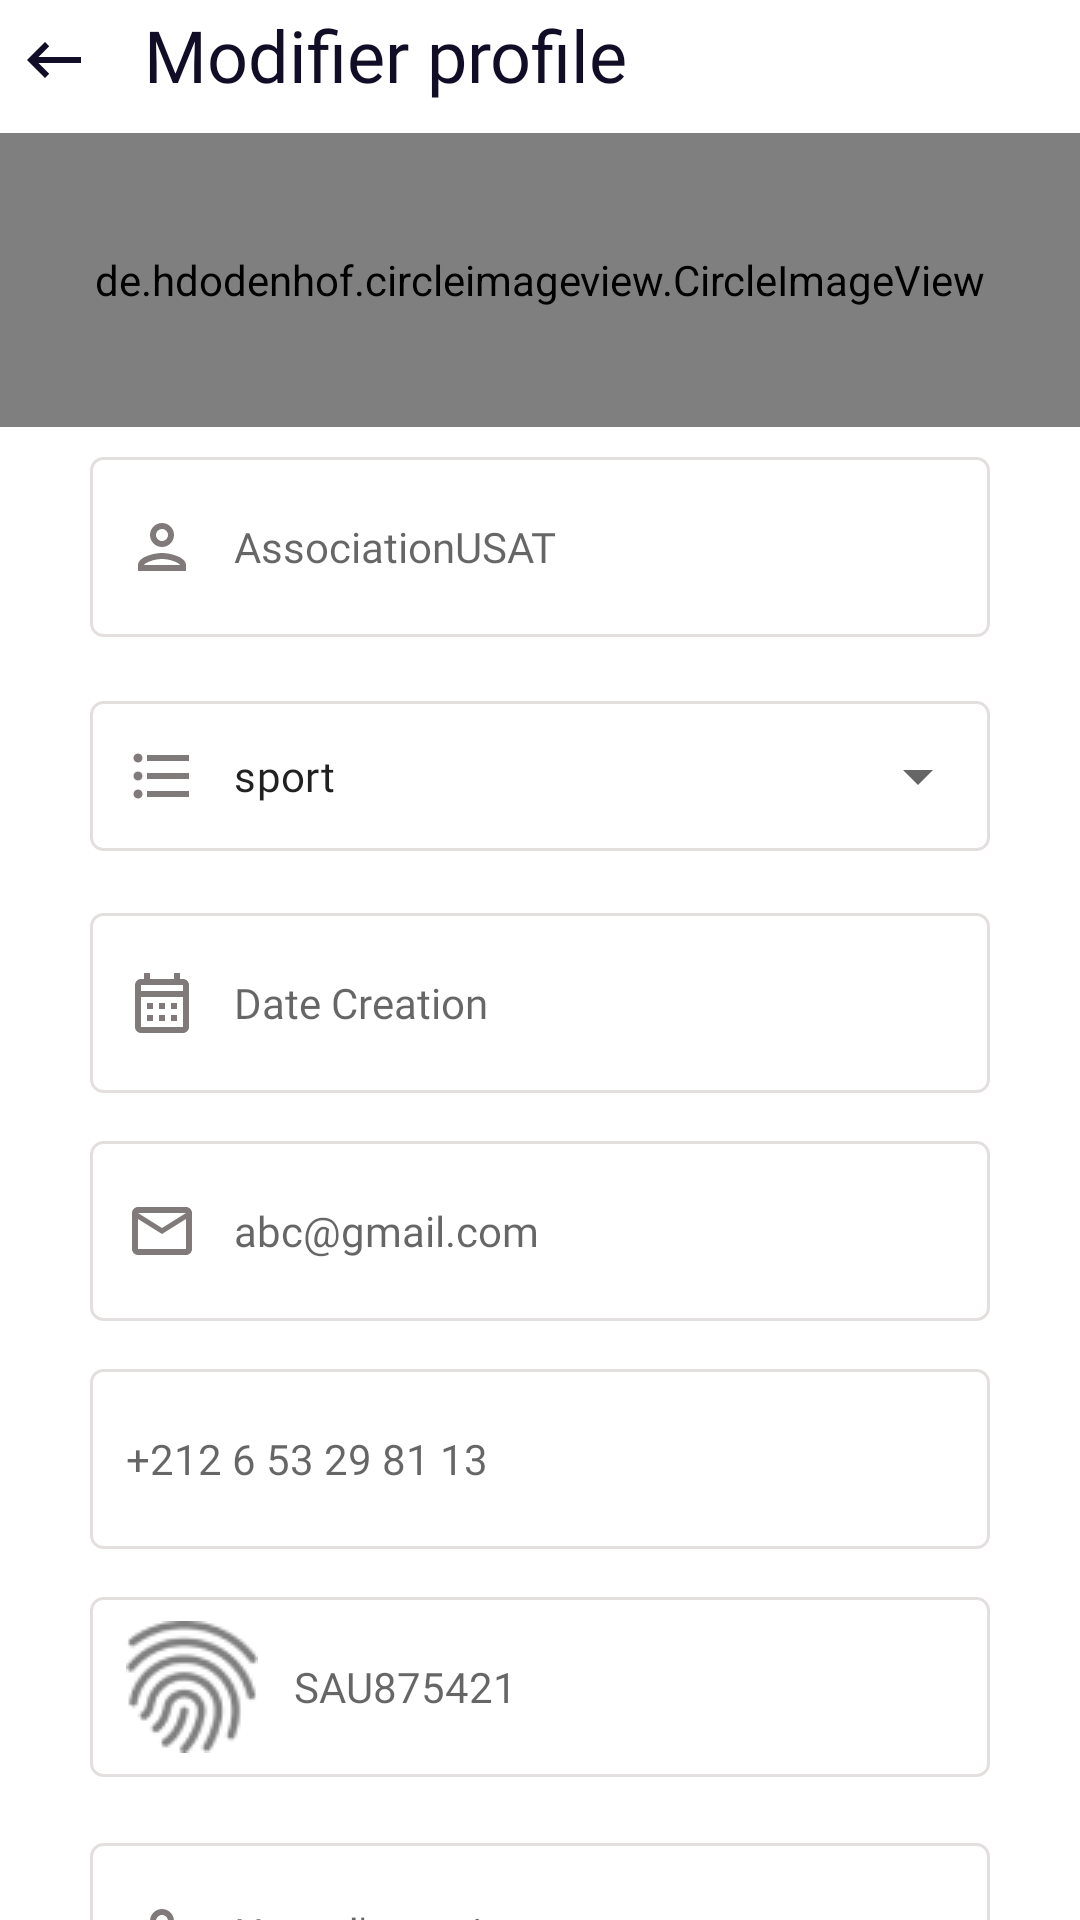

Screen size 1080×1920. Icon name, then its center in pixels as (x,y):
back: (54,60)
